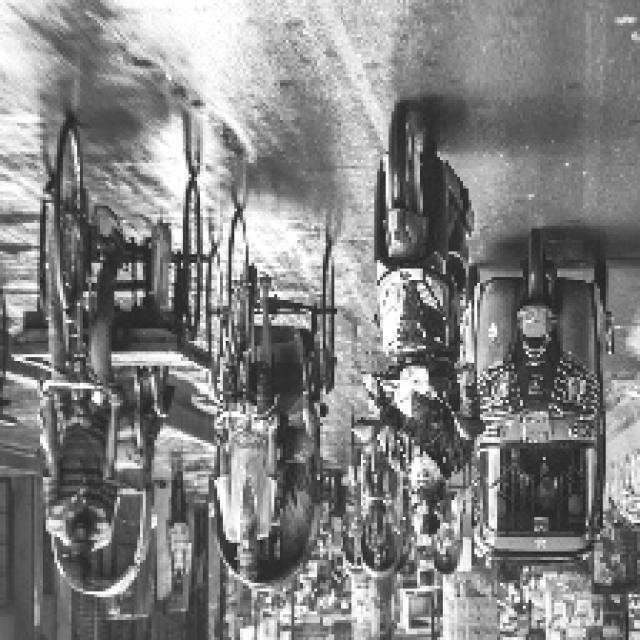car: (358, 121, 486, 448)
rickshaw: (34, 146, 149, 598), (199, 221, 335, 599), (346, 451, 409, 570)
